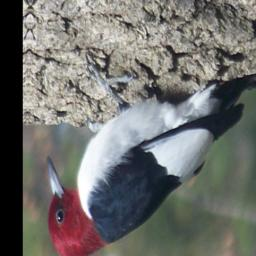Woodpecker: (42, 41, 252, 256)
